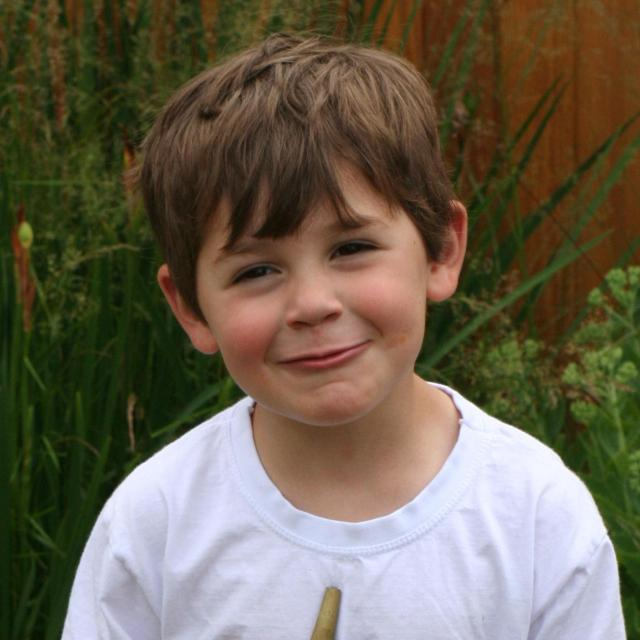no-glass: (225, 240, 390, 288)
